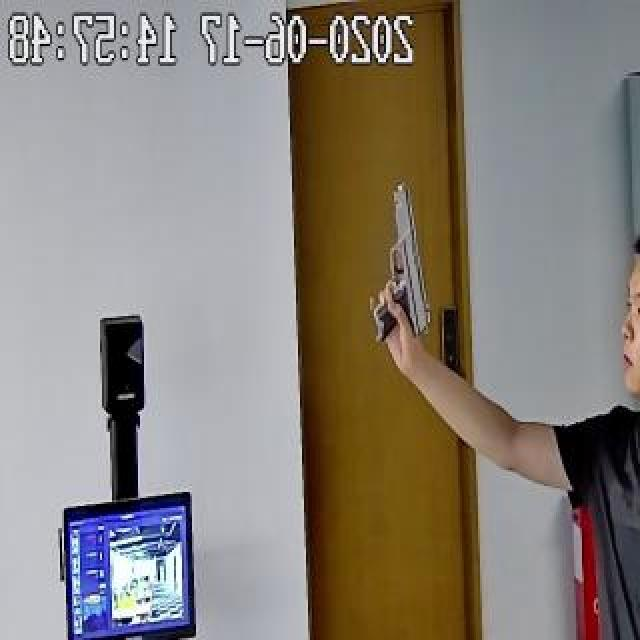Guns: (345, 157, 454, 380)
